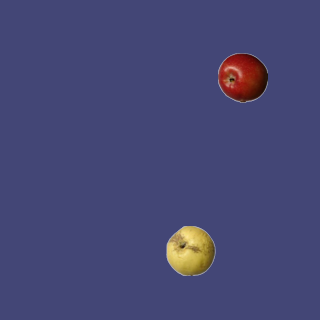Apple Braeburn: (217, 52, 267, 102)
Apple Golden 1: (165, 225, 215, 275)
